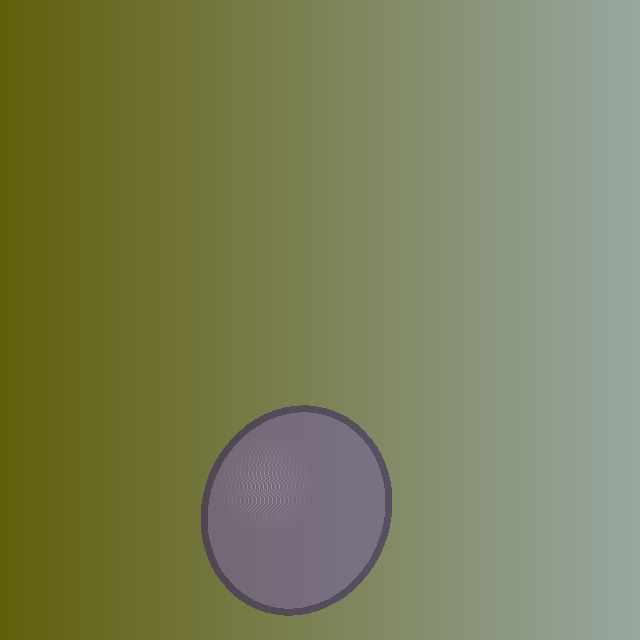lens: (204, 408, 388, 612)
